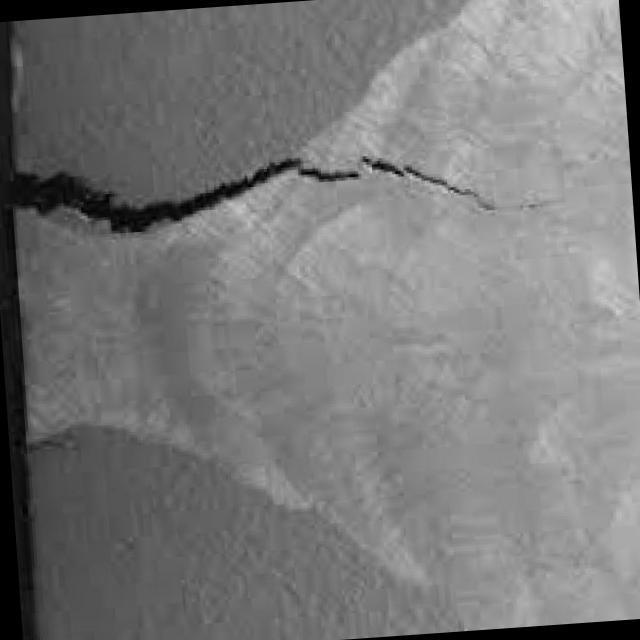defect: (11, 147, 523, 247)
